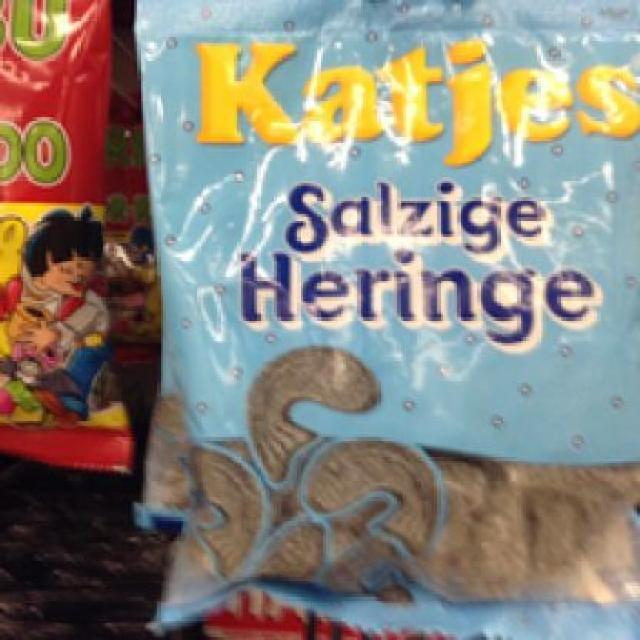Candy: (132, 0, 638, 629)
